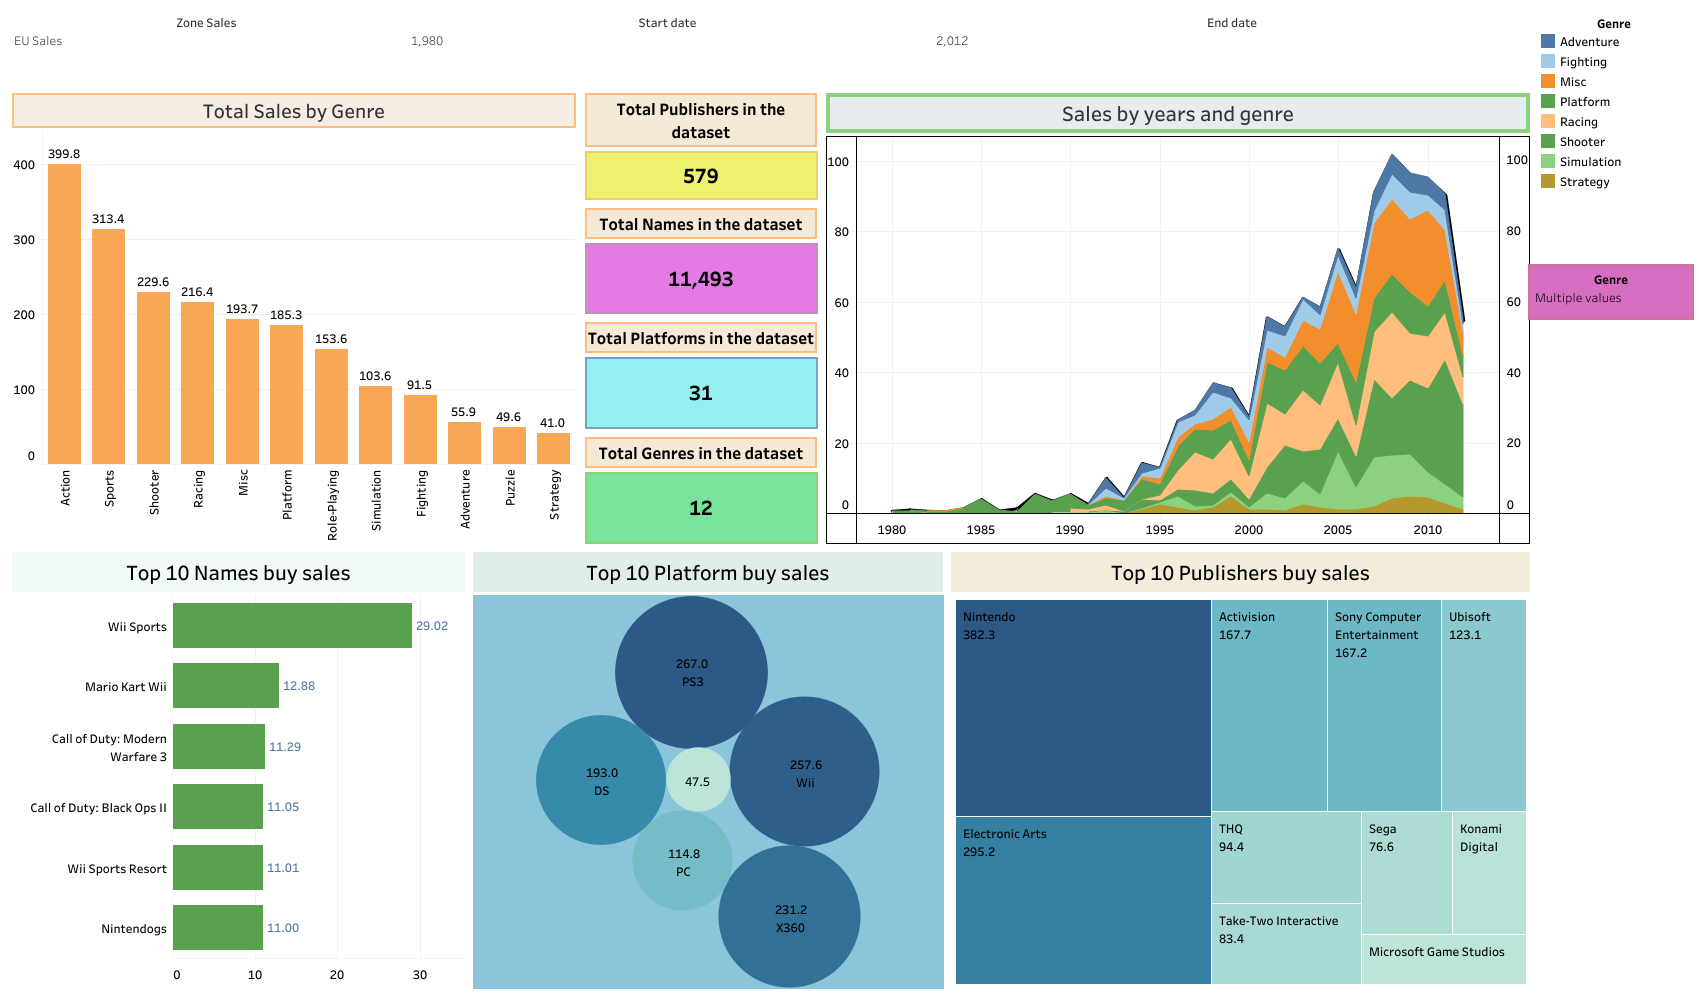

What the dashboard file says about the page in this screenshot:
{"tool":"tableau","page":{"name":"Dashboard 1","canvas":[1700,1000],"ordinal":0},"visuals":[{"type":"parameter","param":"[Parameters].[Parameter 1]","box":[8,8,396.5,81.2]},{"type":"parameter","param":"[Parameters].[Parameter 2]","box":[404.5,8,525.7,81.2]},{"type":"parameter","param":"[Parameters].[Parameter 3]","box":[930.2,8,603.8,81.2]},{"type":"legend","title":"Sales by years and genre","param":"[federated.0bj6y981gs64jr1b0pw7a0blxjmb].[none:Genre:nk]","box":[1534,8,158,242]},{"type":"worksheet","title":"Total Sales by Genre","mark":"Automatic","rows":["Calculation_1055595415990347"],"cols":["Genre"],"box":[8,89.2,571.7,458.6]},{"type":"worksheet","title":"Total Publishers in the dataset","mark":"Automatic","box":[579.8,89.2,242.3,114.7]},{"type":"worksheet","title":"Sales by years and genre","mark":"Automatic","rows":["Calculation_1055595415990347","Calculation_1055595415990347"],"cols":["Year"],"box":[822.1,89.2,711.9,458.6]},{"type":"worksheet","title":"Total Names in the dataset","mark":"Automatic","box":[579.8,203.9,242.3,114.1]},{"type":"legend","title":"Top 10 Publishers buy sales","param":"[federated.0bj6y981gs64jr1b0pw7a0blxjmb].[sum:Calculation_1055595415990347:qk]","box":[1534,250,158,22]},{"type":"filter","title":"Sales by years and genre","param":"[federated.0bj6y981gs64jr1b0pw7a0blxjmb].[none:Genre:nk]","box":[1528,264,166,56]},{"type":"worksheet","title":"Total Platforms in the dataset","mark":"Automatic","box":[579.8,318,242.3,115.2]},{"type":"worksheet","title":"Total Genres in the dataset","mark":"Automatic","box":[579.8,433.2,242.3,114.7]},{"type":"worksheet","title":"Top 10 Names buy sales","mark":"Automatic","rows":["Name"],"cols":["Calculation_1055595415990347"],"box":[8,547.9,460.6,444.1]},{"type":"worksheet","title":"Top 10 Platform buy sales","mark":"Circle","box":[468.6,547.9,478.6,444.1]},{"type":"worksheet","title":"Top 10 Publishers buy sales","mark":"Automatic","box":[947.2,547.9,586.8,444.1]}]}

Visuals, with their boxes in screenshot pixels (x1, y1, x2, y2), scaled from the page's 1700x1000 canvas onto the 1699x999 screenshot:
parameter: 8,8,404,89
parameter: 404,8,930,89
parameter: 930,8,1533,89
"Sales by years and genre" legend: 1533,8,1691,250
"Total Sales by Genre" worksheet: 8,89,579,547
"Total Publishers in the dataset" worksheet: 579,89,822,204
"Sales by years and genre" worksheet: 822,89,1533,547
"Total Names in the dataset" worksheet: 579,204,822,318
"Top 10 Publishers buy sales" legend: 1533,250,1691,272
"Sales by years and genre" filter: 1527,264,1693,320
"Total Platforms in the dataset" worksheet: 579,318,822,433
"Total Genres in the dataset" worksheet: 579,433,822,547
"Top 10 Names buy sales" worksheet: 8,547,468,991
"Top 10 Platform buy sales" worksheet (Circle marks): 468,547,947,991
"Top 10 Publishers buy sales" worksheet: 947,547,1533,991
